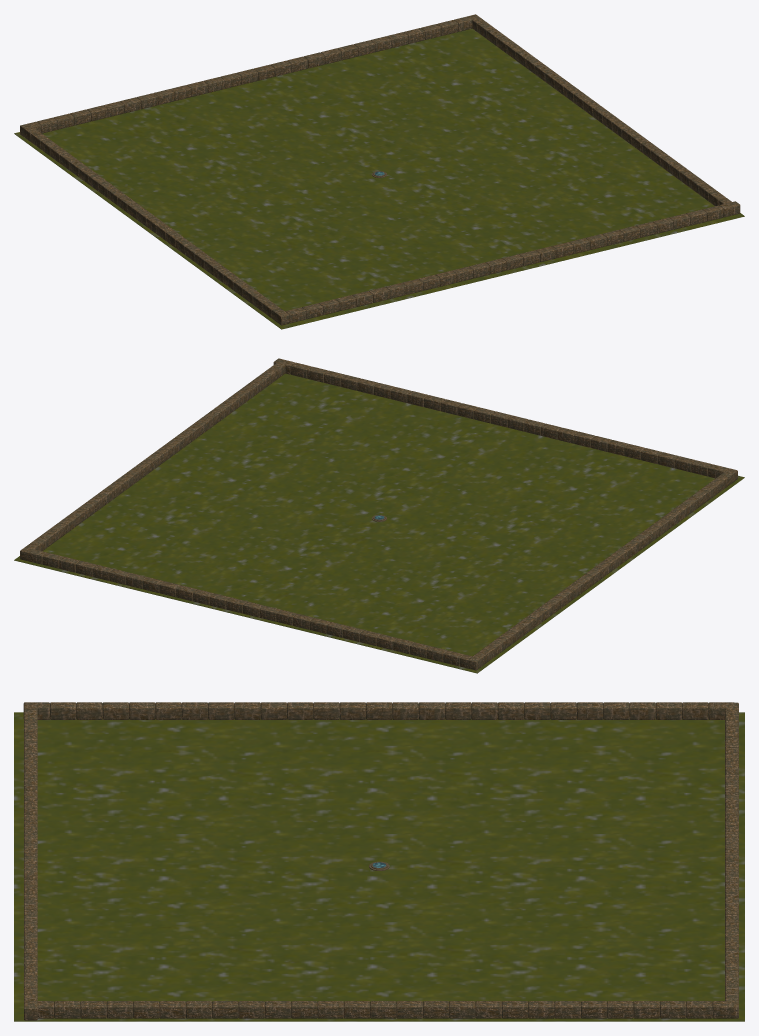
The model's file is MAP.fbx.
The picture shows the model from 3 angles, top to bottom: view 1: azimuth 30°, elevation 25°; view 2: azimuth 150°, elevation 25°; view 3: azimuth 270°, elevation 25°; orthographic projection. The views are drawn at different scales.
Parts seen in each view (by area): view 1: Zemin.001, Cube.008, Cube.010, Cube.007, Cube.009; view 2: Zemin.001, Cube.010, Cube.008, Cube.007, Cube.009; view 3: Zemin.001, Cube.009, Cube.007, Cube.008, Cube.010.
Part boxes in pixels (x1,y1,x2,y2): Zemin.001: (14, 28, 744, 329); Cube.008: (285, 201, 740, 323); Cube.010: (20, 16, 473, 136); Cube.007: (21, 124, 289, 325); Cube.009: (470, 14, 731, 205); Zemin.001: (14, 373, 744, 673); Cube.010: (27, 548, 480, 670); Cube.008: (273, 358, 728, 478); Cube.007: (470, 468, 737, 668); Cube.009: (20, 362, 285, 561); Zemin.001: (14, 712, 744, 1021); Cube.009: (37, 1001, 738, 1018); Cube.007: (23, 702, 734, 719); Cube.008: (24, 708, 37, 1020); Cube.010: (725, 702, 738, 1002).
Size of the model in its own units: 10547 by 205 by 10547.
3 materials, 3 textured.
